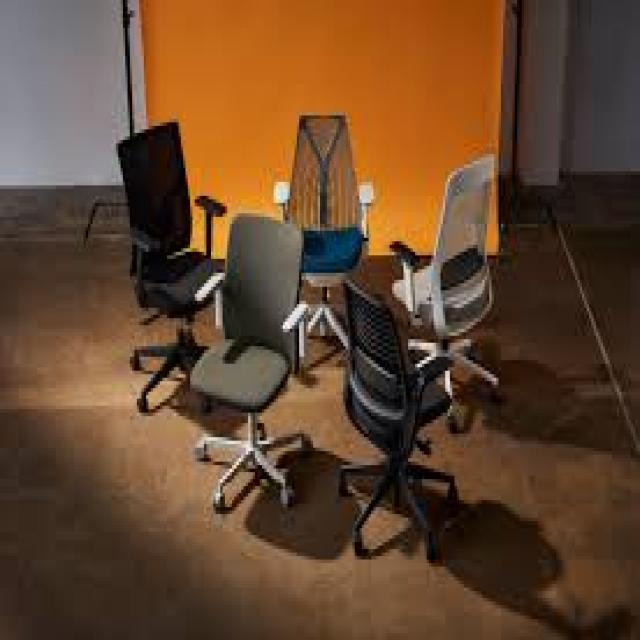chair: (176, 153, 312, 553), (81, 103, 240, 425), (310, 266, 462, 601), (366, 147, 534, 428), (250, 88, 377, 404)
